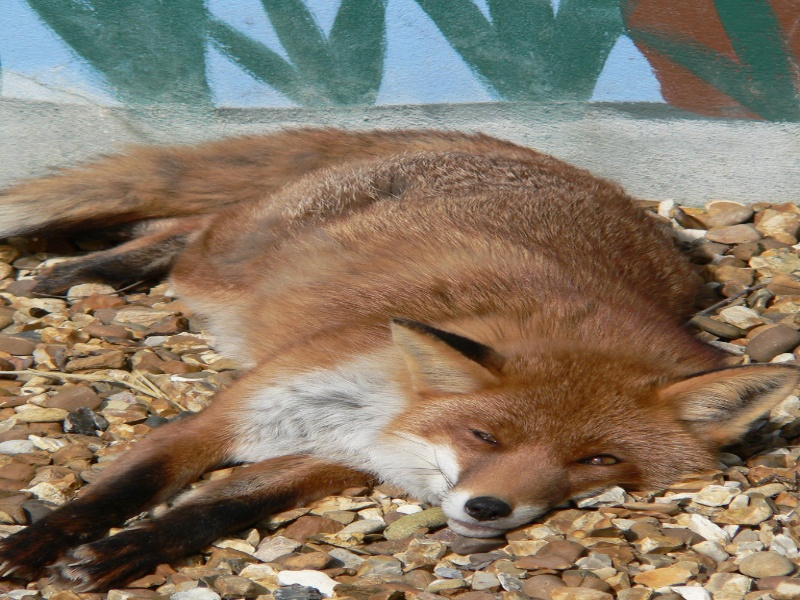fox: (1, 125, 787, 587)
